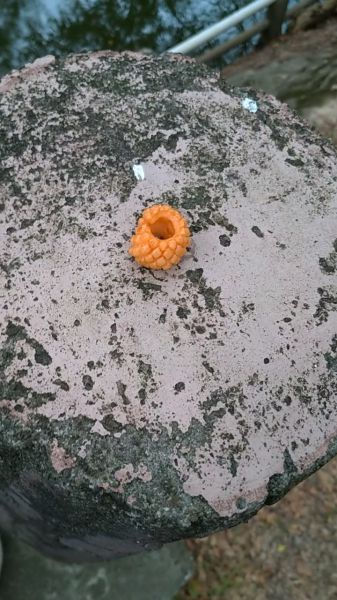eggs: (123, 193, 193, 269)
